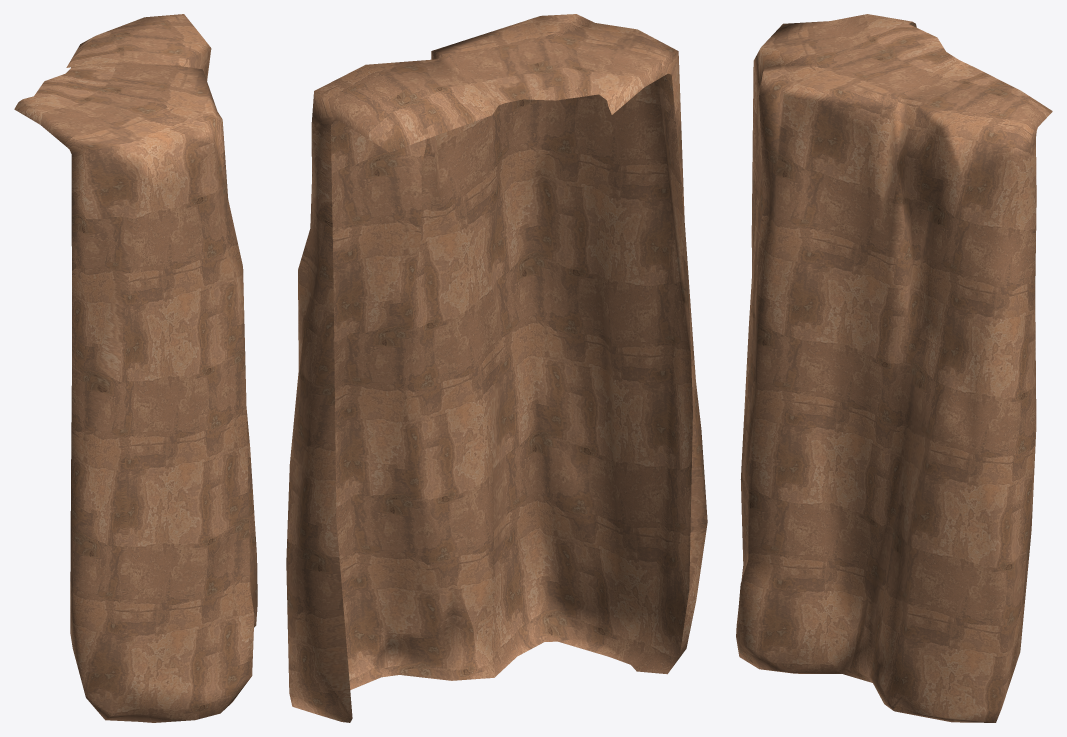
The model's file is Ob_RockCliff13.fbx.
3 renders of one model, left to right at view 1: azimuth 30°, elevation 25°; view 2: azimuth 150°, elevation 25°; view 3: azimuth 270°, elevation 25°, orthographic. The views are drawn at different scales.
Visible parts, largest first — view 1: Ob_RockCliff13; view 2: Ob_RockCliff13; view 3: Ob_RockCliff13.
Part boxes in pixels (x1,y1,x2,y2): Ob_RockCliff13: [14, 14, 257, 722]; Ob_RockCliff13: [286, 14, 707, 722]; Ob_RockCliff13: [736, 14, 1052, 722].
Size of the model in its own units: 31500 by 67179 by 32560.
